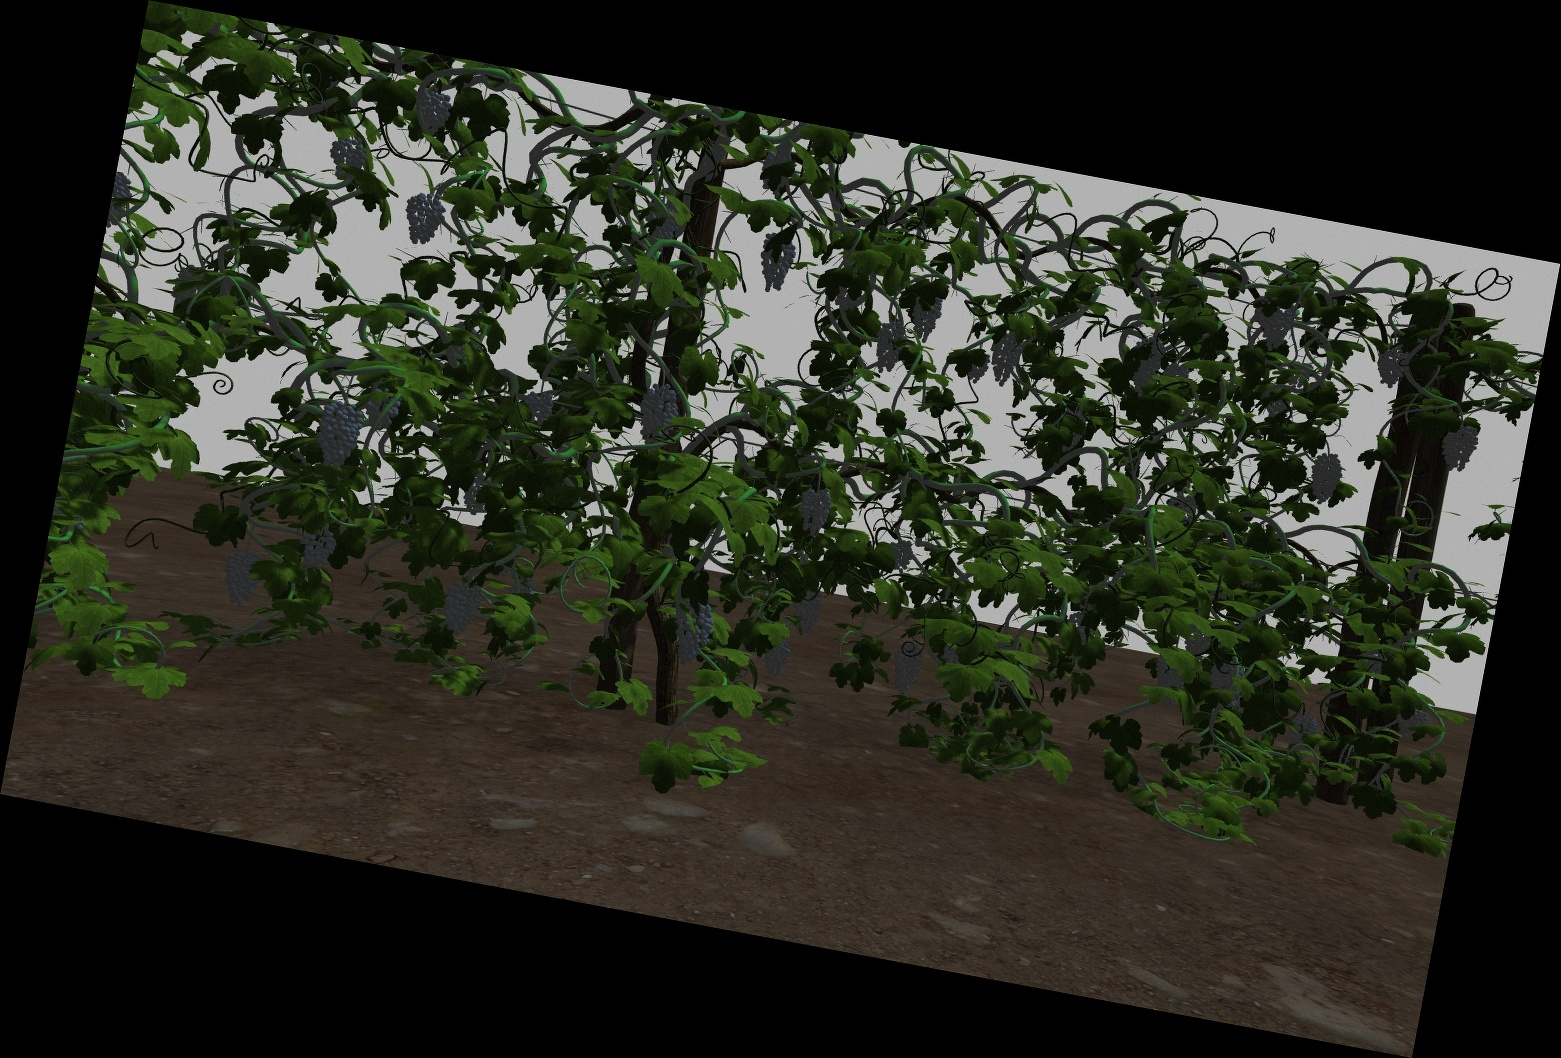grape: (315, 401, 363, 469), (670, 600, 711, 665), (640, 383, 680, 446), (440, 580, 483, 636), (758, 231, 795, 295), (221, 551, 262, 607), (404, 192, 445, 244), (414, 86, 452, 137), (988, 333, 1023, 387), (891, 641, 923, 697), (1442, 423, 1478, 470), (1131, 340, 1162, 396), (299, 525, 335, 572), (793, 586, 827, 635), (1309, 452, 1340, 505), (327, 138, 367, 178), (798, 488, 829, 538), (876, 318, 903, 374), (912, 293, 941, 342), (1374, 346, 1407, 388), (1210, 660, 1245, 695), (1395, 706, 1428, 743), (1289, 714, 1321, 751), (370, 391, 399, 430), (523, 388, 555, 424), (1152, 658, 1186, 688), (765, 641, 791, 678), (1250, 301, 1279, 333), (1269, 309, 1289, 350), (888, 538, 914, 568)
